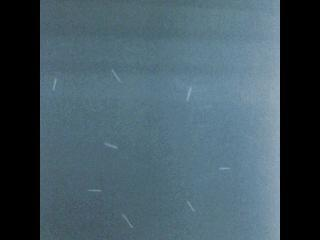scratch: (46, 68, 64, 100), (178, 82, 200, 105), (117, 210, 138, 233), (108, 64, 126, 89), (181, 195, 201, 217), (100, 138, 124, 154), (83, 182, 107, 198), (214, 160, 235, 178)
